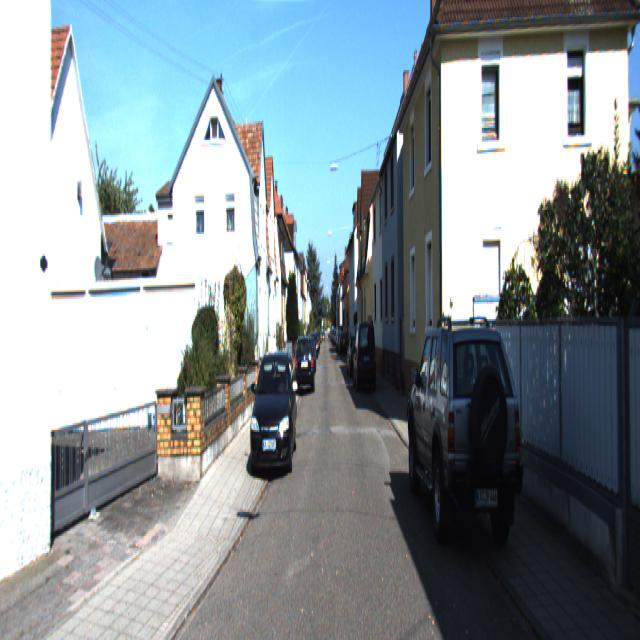Car: (404, 316, 526, 573), (248, 344, 298, 484), (353, 318, 378, 392), (294, 332, 314, 397)
